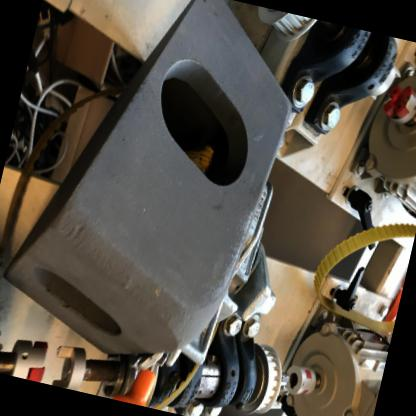CornerCasting: (0, 0, 310, 388)
Twistlock: (172, 167, 301, 406)
